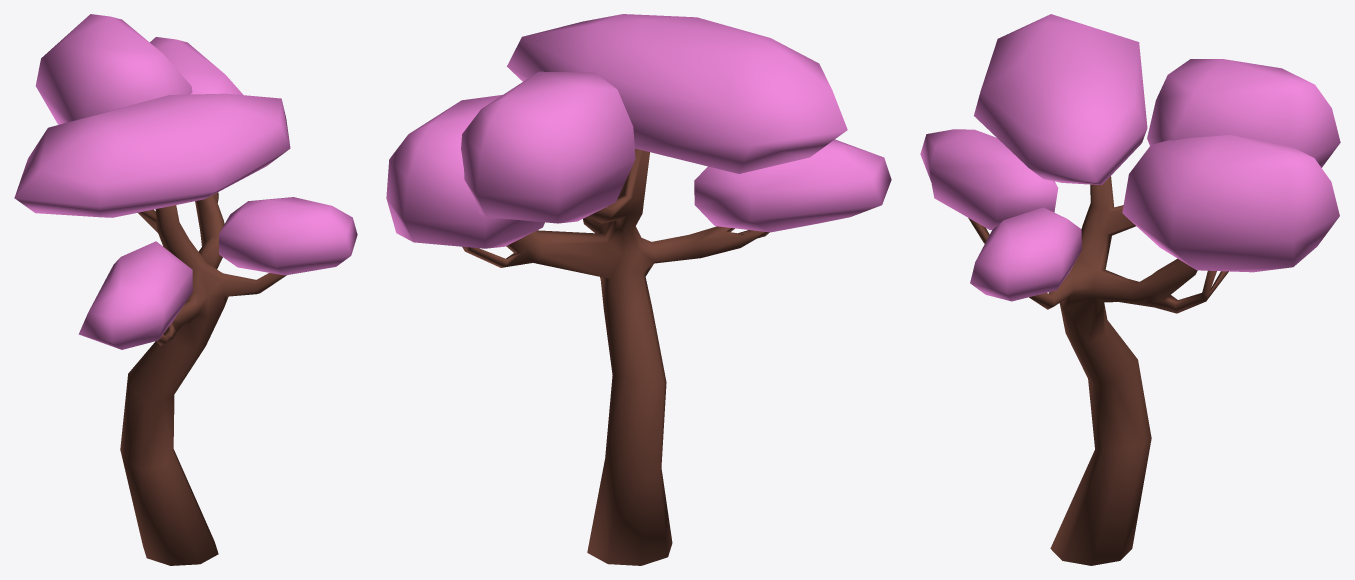
File: Arvore_Cerejera_1.fbx
The picture shows the model from 3 angles, left to right: view 1: azimuth 30°, elevation 25°; view 2: azimuth 150°, elevation 25°; view 3: azimuth 270°, elevation 25°; orthographic projection. The views are drawn at different scales.
Parts seen in each view (by area): view 1: Arvore_Cerejera_1; view 2: Arvore_Cerejera_1; view 3: Arvore_Cerejera_1.
Boxes of the visible parts, left/top/right/bottom form: Arvore_Cerejera_1: left=14, top=14, right=357, bottom=565; Arvore_Cerejera_1: left=386, top=14, right=891, bottom=565; Arvore_Cerejera_1: left=920, top=14, right=1340, bottom=565.
Size of the model in its own units: 4.38 by 3.97 by 5.54.
